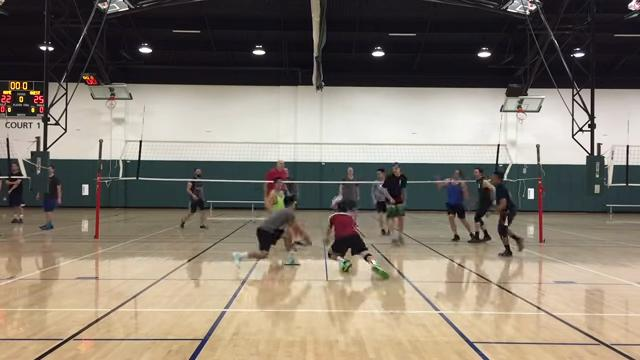Dig: (319, 201, 390, 282)
Player: (232, 197, 310, 264), (492, 172, 523, 256), (437, 169, 473, 240), (468, 167, 494, 242), (383, 163, 406, 244), (180, 168, 207, 228), (372, 168, 387, 235), (264, 160, 288, 198), (339, 167, 359, 207), (265, 178, 285, 211)
